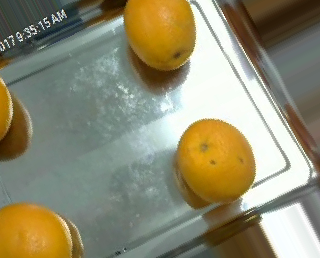Orange: (175, 119, 256, 204), (122, 1, 196, 70)
